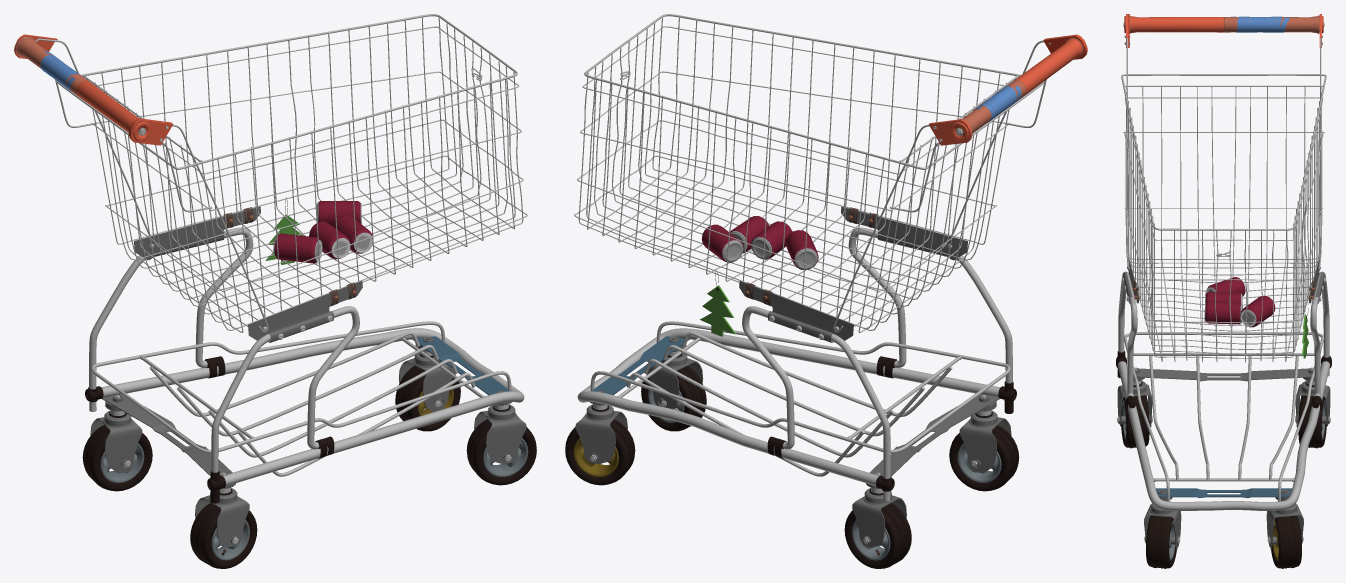
Rendered from telegka_use.fbx.
The picture shows the model from 3 angles, left to right: view 1: azimuth 30°, elevation 25°; view 2: azimuth 150°, elevation 25°; view 3: azimuth 270°, elevation 25°; orthographic projection. The views are drawn at different scales.
Visible parts, largest first — view 1: BezierCurve.006, BezierCurve.004, BezierCurve, Plane.001, BezierCurve.001, Cylinder.045, Plane.003, Cylinder.028, Plane.004, BezierCurve.003, Cylinder.008, BezierCurve.002 (+10 smaller); view 2: BezierCurve.006, BezierCurve.004, BezierCurve, Plane.001, BezierCurve.001, Cylinder.045, Plane.003, Cylinder.028, Plane.004, BezierCurve.003, Cylinder.008, BezierCurve.002 (+11 smaller); view 3: BezierCurve.006, BezierCurve.004, BezierCurve, Cylinder.028, Cylinder.008, BezierCurve.001, Plane.006, Cylinder.045, Plane.005, BezierCurve.002, BezierCurve.003, Plane.004 (+10 smaller).
Part boxes in pixels (x1=…): BezierCurve.006: x1=17, y1=14, x2=527, y2=332; BezierCurve.004: x1=101, y1=328, x2=524, y2=485; BezierCurve: x1=89, y1=227, x2=359, y2=472; Plane.001: x1=134, y1=206, x2=362, y2=342; BezierCurve.001: x1=91, y1=321, x2=511, y2=453; Cylinder.045: x1=82, y1=425, x2=257, y2=568; Plane.003: x1=90, y1=417, x2=249, y2=547; Cylinder.028: x1=395, y1=366, x2=536, y2=485; Plane.004: x1=398, y1=358, x2=526, y2=463; BezierCurve.003: x1=177, y1=345, x2=457, y2=457; Cylinder.008: x1=16, y1=36, x2=151, y2=141; BezierCurve.002: x1=149, y1=331, x2=475, y2=476; BezierCurve.006: x1=574, y1=14, x2=1046, y2=332; BezierCurve.004: x1=577, y1=328, x2=1000, y2=485; BezierCurve: x1=742, y1=227, x2=1012, y2=501; Plane.001: x1=739, y1=206, x2=967, y2=342; BezierCurve.001: x1=590, y1=321, x2=1010, y2=453; Cylinder.045: x1=844, y1=425, x2=1019, y2=568; Plane.003: x1=852, y1=417, x2=1011, y2=547; Cylinder.028: x1=565, y1=366, x2=706, y2=485; Plane.004: x1=575, y1=358, x2=703, y2=463; BezierCurve.003: x1=644, y1=345, x2=924, y2=457; Cylinder.008: x1=950, y1=38, x2=1082, y2=141; BezierCurve.002: x1=626, y1=331, x2=952, y2=476; BezierCurve.006: x1=1121, y1=16, x2=1326, y2=362; BezierCurve.004: x1=1117, y1=361, x2=1330, y2=510; BezierCurve: x1=1118, y1=271, x2=1329, y2=396; Cylinder.028: x1=1146, y1=515, x2=1301, y2=568; Cylinder.008: x1=1124, y1=16, x2=1323, y2=33; BezierCurve.001: x1=1123, y1=332, x2=1324, y2=501; Plane.006: x1=1133, y1=368, x2=1314, y2=381; Cylinder.045: x1=1121, y1=395, x2=1326, y2=447; Plane.005: x1=1155, y1=488, x2=1292, y2=497; BezierCurve.002: x1=1149, y1=356, x2=1298, y2=480; BezierCurve.003: x1=1196, y1=356, x2=1251, y2=480; Plane.004: x1=1144, y1=504, x2=1303, y2=549.
Size of the model in its own units: 269 by 286 by 142.
